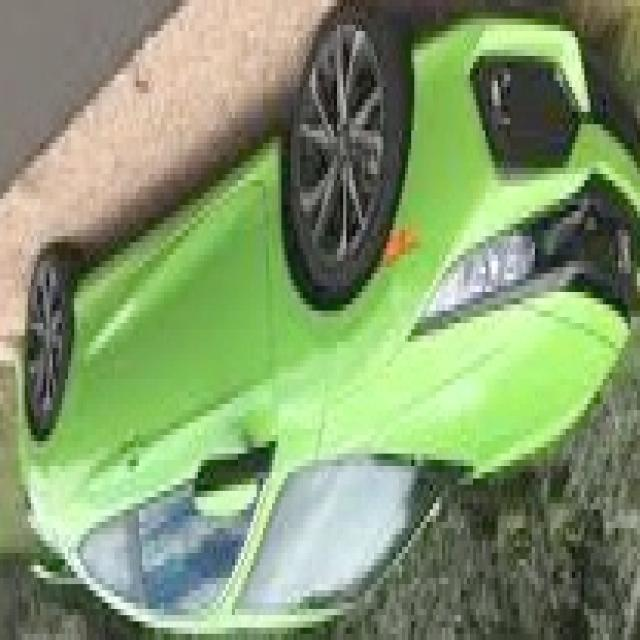green: (16, 0, 639, 637)
